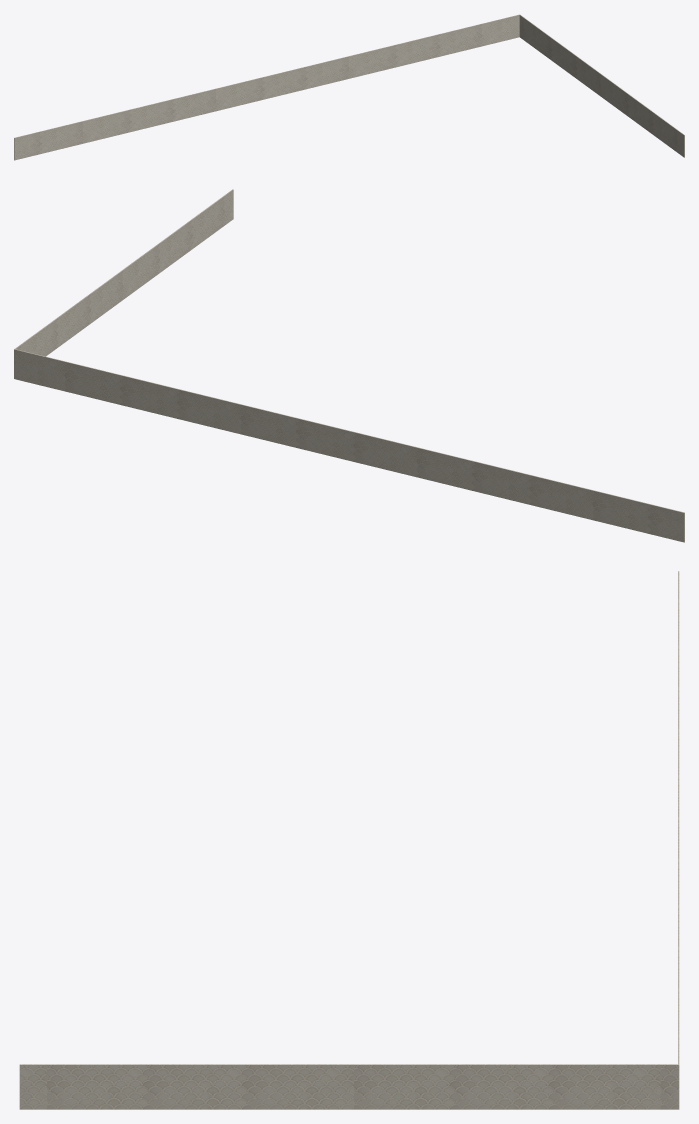
Rendered from BP_Revalia_Remix_Graceful_Greige_Fan.glb.
3 views of the same model, one above another, from view 1: azimuth 30°, elevation 25°; view 2: azimuth 150°, elevation 25°; view 3: azimuth 270°, elevation 25° (orthographic). The views are drawn at different scales.
Parts seen in each view (by area): view 1: BKSPLASH_revalia_remix_graceful_greige_fan.001; view 2: BKSPLASH_revalia_remix_graceful_greige_fan.001; view 3: BKSPLASH_revalia_remix_graceful_greige_fan.001.
Boxes of the visible parts, x1=… form: BKSPLASH_revalia_remix_graceful_greige_fan.001: x1=14, y1=14, x2=684, y2=160; BKSPLASH_revalia_remix_graceful_greige_fan.001: x1=14, y1=189, x2=684, y2=542; BKSPLASH_revalia_remix_graceful_greige_fan.001: x1=19, y1=571, x2=679, y2=1109.
Size of the model in its own units: 7.1 by 0.3 by 4.01.
1 material, 1 textured.
